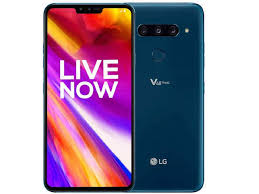lg: (42, 1, 135, 192), (133, 1, 204, 194)
